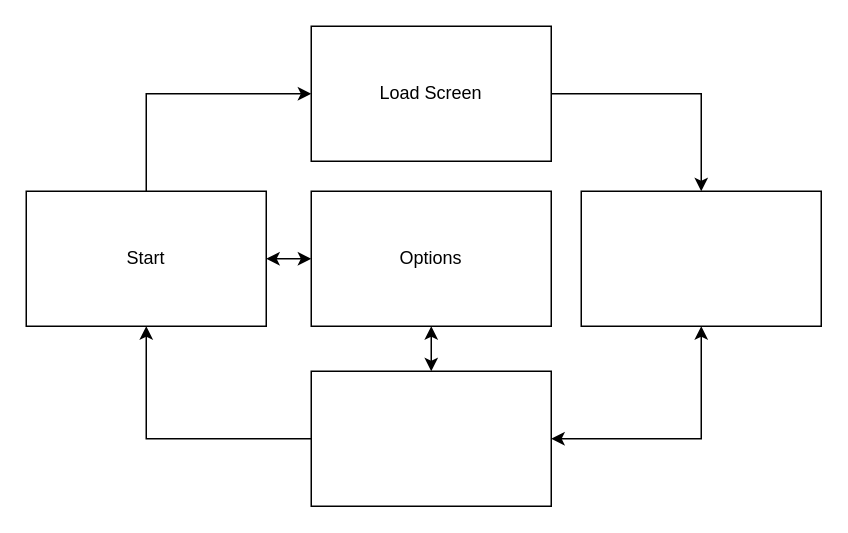
Some shapes in this 848 by 533 pixel diagram are drawn without their labels. Each missing label, with the centre of its shape:
Game: pixel 700 258
Pause: pixel 430 438
